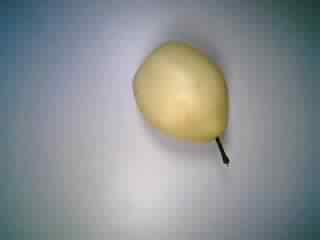pear: (122, 32, 241, 173)
